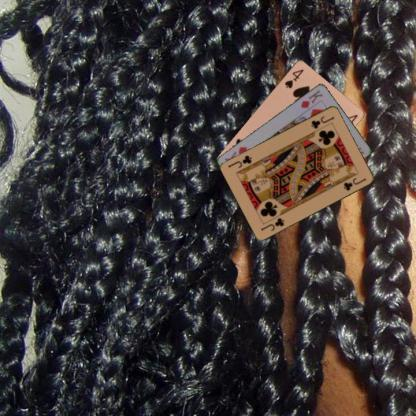4s: (282, 66, 305, 90)
Jc: (308, 113, 336, 130), (258, 215, 286, 232)
Kd: (298, 87, 324, 109)
